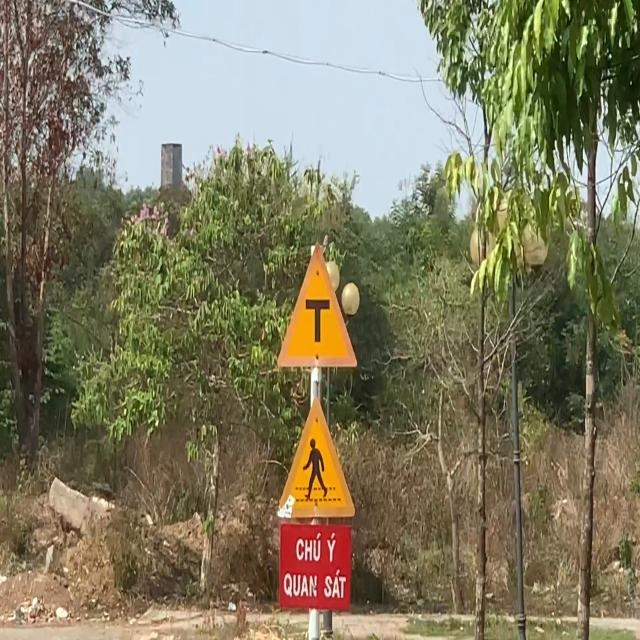bien_nguy_hiem: (274, 239, 359, 370), (275, 396, 356, 521)
